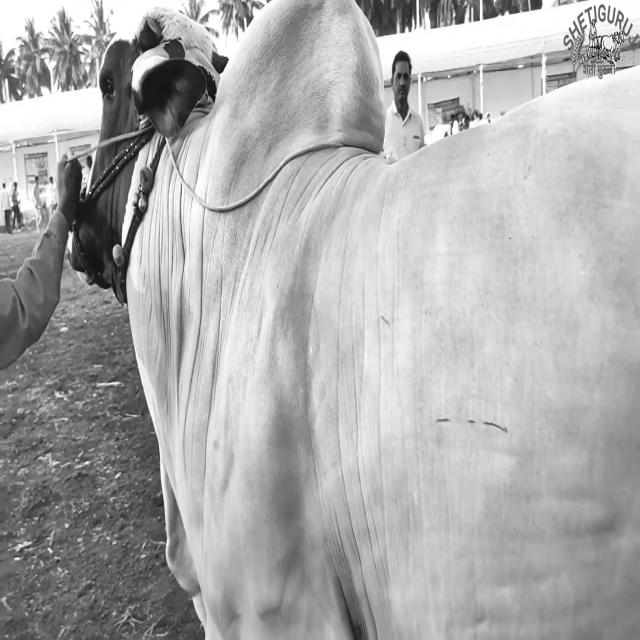Cow: (68, 0, 639, 638)
